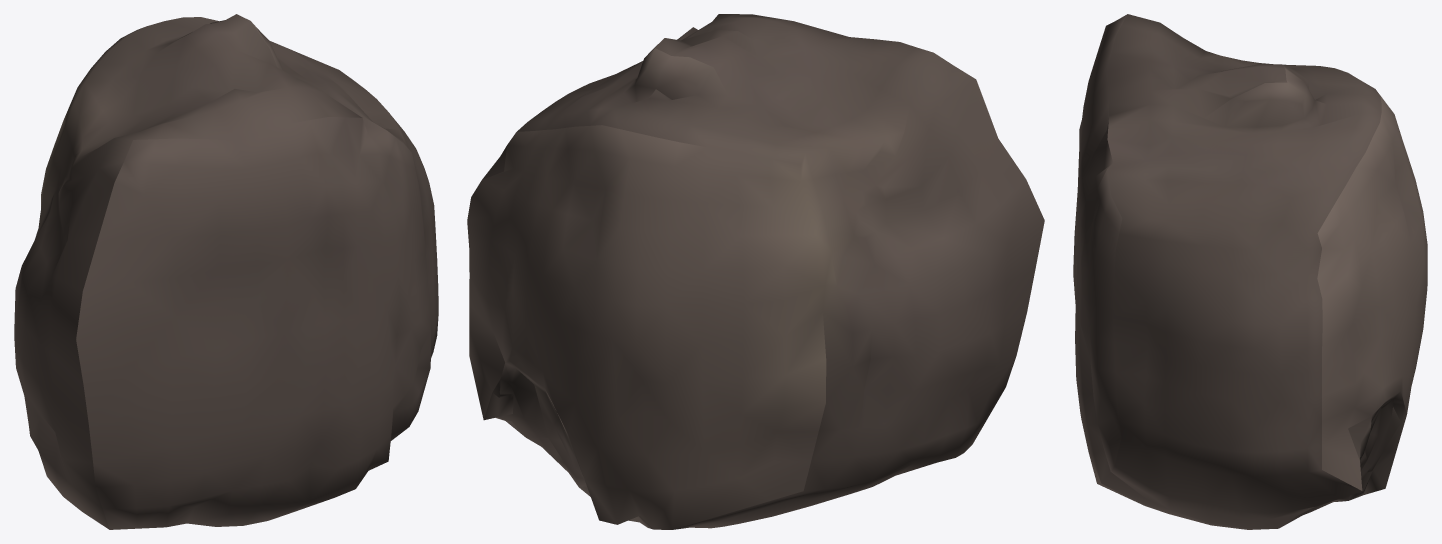
Rendered from SharpRock.005.glb.
The picture shows the model from 3 angles, left to right: view 1: azimuth 30°, elevation 25°; view 2: azimuth 150°, elevation 25°; view 3: azimuth 270°, elevation 25°; orthographic projection. The views are drawn at different scales.
Parts seen in each view (by area): view 1: SharpRock.005; view 2: SharpRock.005; view 3: SharpRock.005.
Boxes of the visible parts, x1=… form: SharpRock.005: x1=14, y1=14, x2=438, y2=529; SharpRock.005: x1=467, y1=14, x2=1044, y2=529; SharpRock.005: x1=1073, y1=14, x2=1427, y2=529.
Size of the model in its own units: 383 by 378 by 276.
